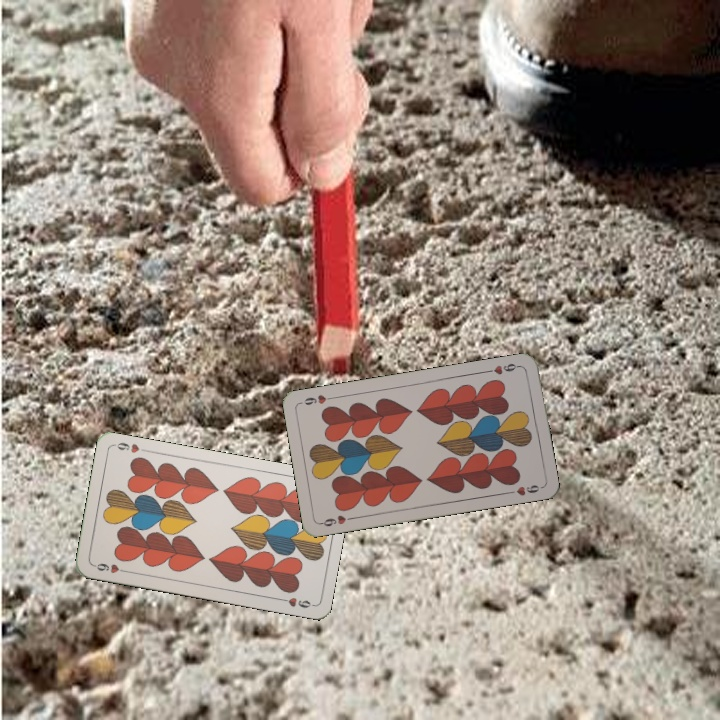H9: (317, 511, 357, 529), (483, 359, 523, 377), (89, 559, 130, 576)
